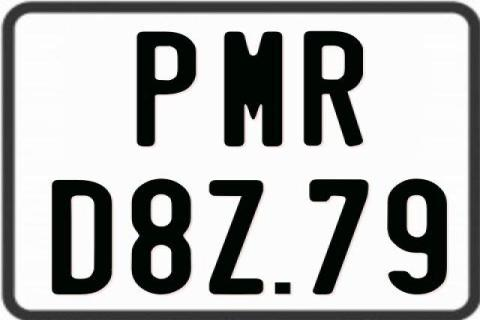0: (131, 179, 195, 299), (309, 178, 374, 294), (386, 178, 446, 298)
D: (52, 178, 112, 296)
M: (222, 29, 282, 149)
P: (136, 31, 197, 146)
R: (303, 29, 363, 147)
Z: (209, 179, 265, 295)
